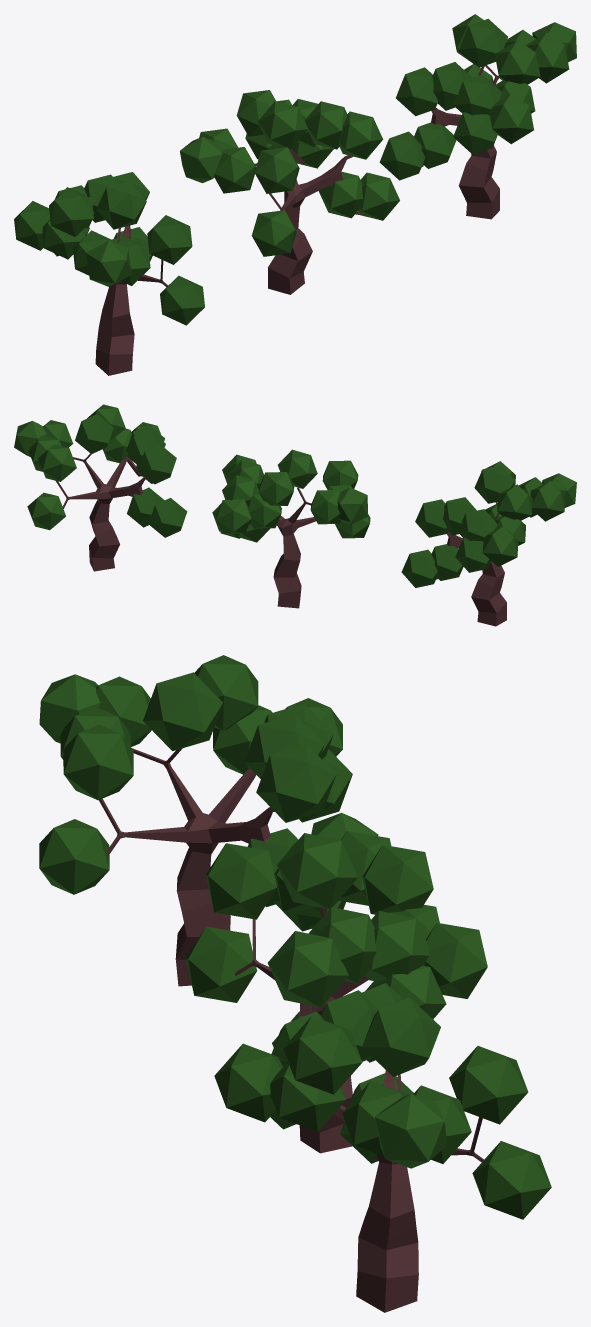
Rendered from Small_Trees_Cluster_Model.glb.
The picture shows the model from 3 angles, top to bottom: view 1: azimuth 30°, elevation 25°; view 2: azimuth 150°, elevation 25°; view 3: azimuth 270°, elevation 25°; orthographic projection. The views are drawn at different scales.
Visible parts, largest first — view 1: Icosphere.001, Icosphere.002, Icosphere.003; view 2: Icosphere.002, Icosphere.003, Icosphere.001; view 3: Icosphere.003, Icosphere.002, Icosphere.001.
Part boxes in pixels (left/top/right/bottom): Icosphere.001: left=180, top=90, right=399, bottom=294; Icosphere.002: left=379, top=14, right=576, bottom=219; Icosphere.003: left=14, top=172, right=204, bottom=375; Icosphere.002: left=14, top=404, right=187, bottom=571; Icosphere.003: left=401, top=461, right=576, bottom=626; Icosphere.001: left=212, top=449, right=370, bottom=608; Icosphere.003: left=39, top=655, right=352, bottom=986; Icosphere.002: left=214, top=983, right=551, bottom=1312; Icosphere.001: left=186, top=812, right=487, bottom=1153.
Size of the model in its own units: 159 by 49.67 by 74.49.
